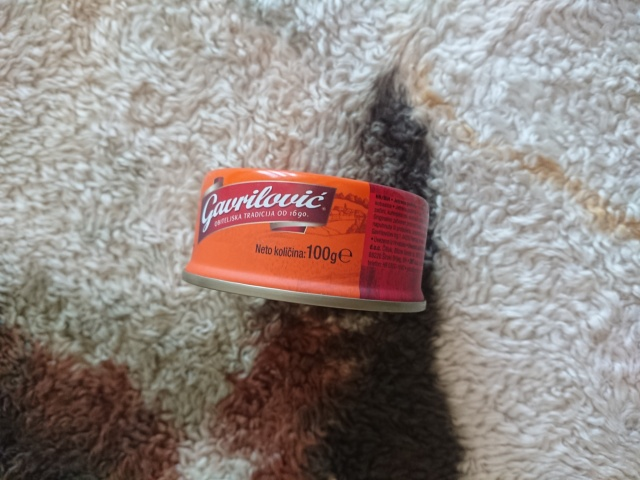Gavrilovic Pork Liver Pate 100g: (177, 163, 433, 316)
